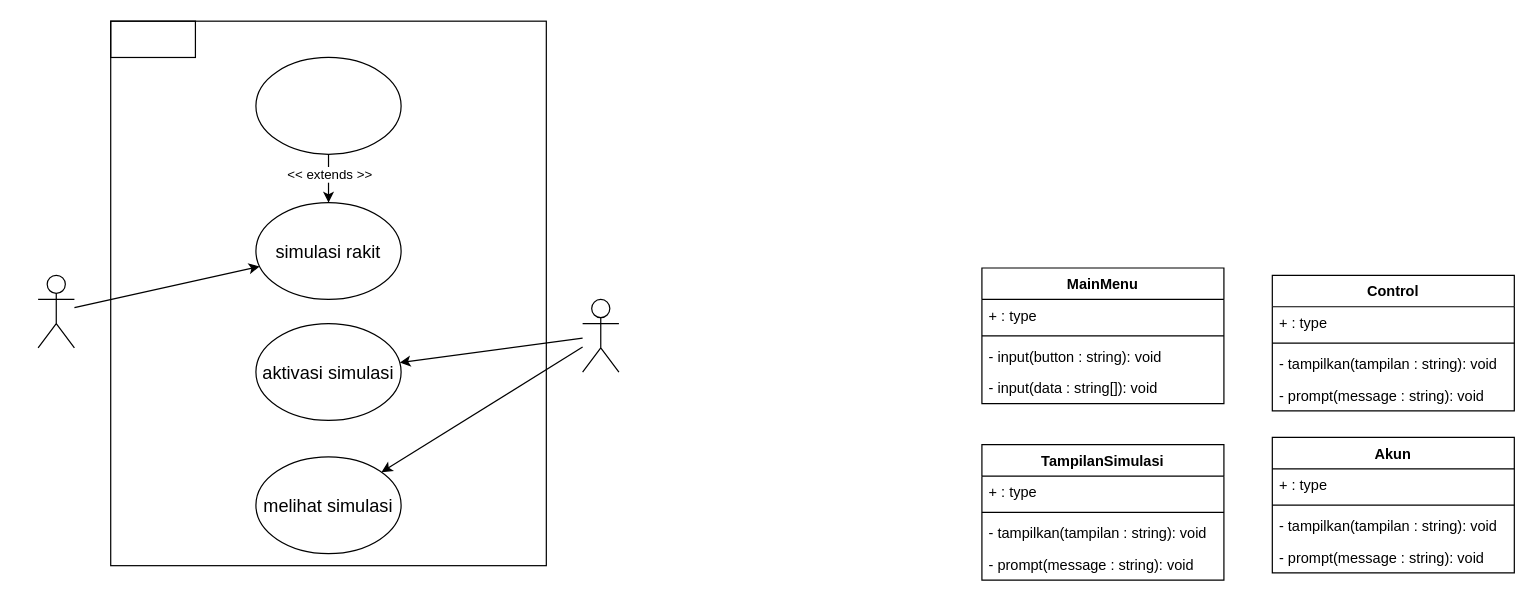
Image size: 1535x605. Some labels were removed from this diagram. The shapes that lost their labels are listed below. From the top down, each one's centre as x and y in pixels, then its label:
At (152,38): "Sistem".
At (328,105): "simpan simulasi".
At (55,311): "Operator".
At (600,335): "Manajer".
